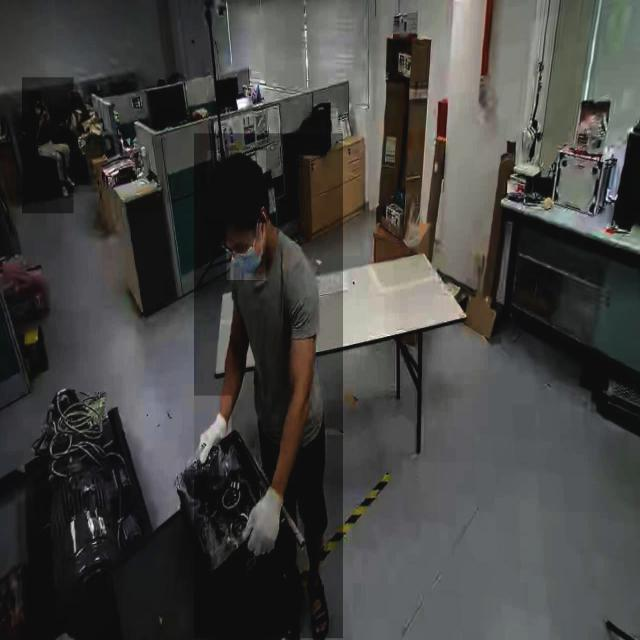face_mask: (227, 223, 266, 280)
hand_glove: (239, 482, 292, 573), (194, 396, 232, 476)
hand_noglove: (38, 111, 46, 125)
head_nohelmet: (207, 150, 266, 222), (28, 91, 42, 102), (71, 90, 83, 98)
person: (193, 133, 343, 639), (22, 78, 74, 214)
